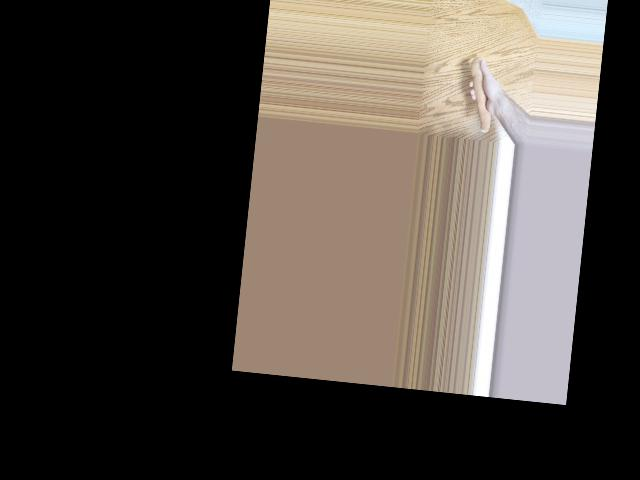sweet_potato: (464, 56, 498, 134)
